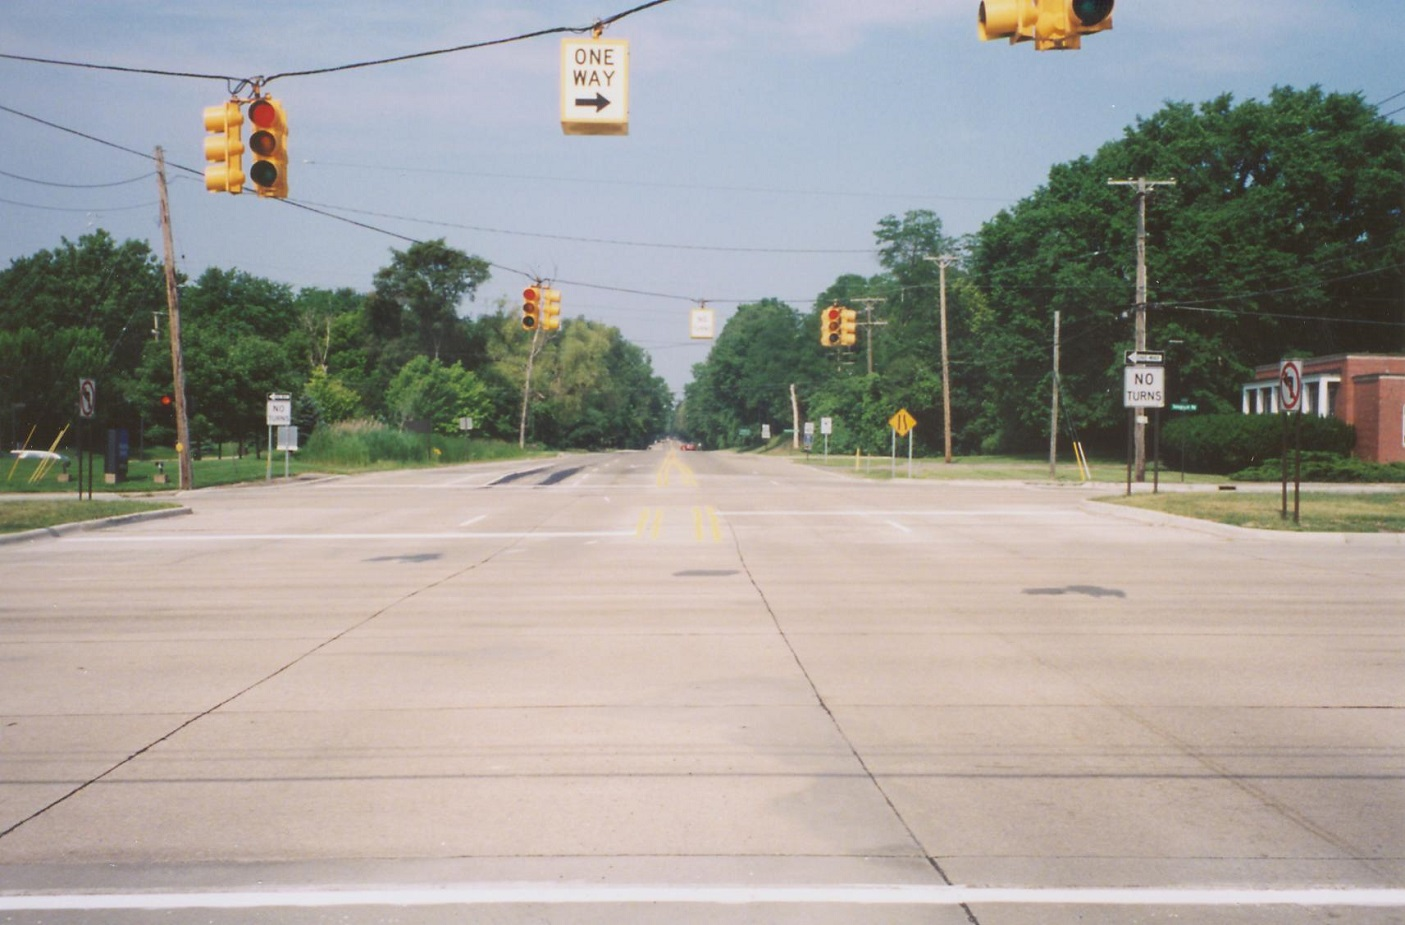traffic_light: (246, 96, 291, 199), (520, 286, 541, 332), (824, 306, 844, 347)
